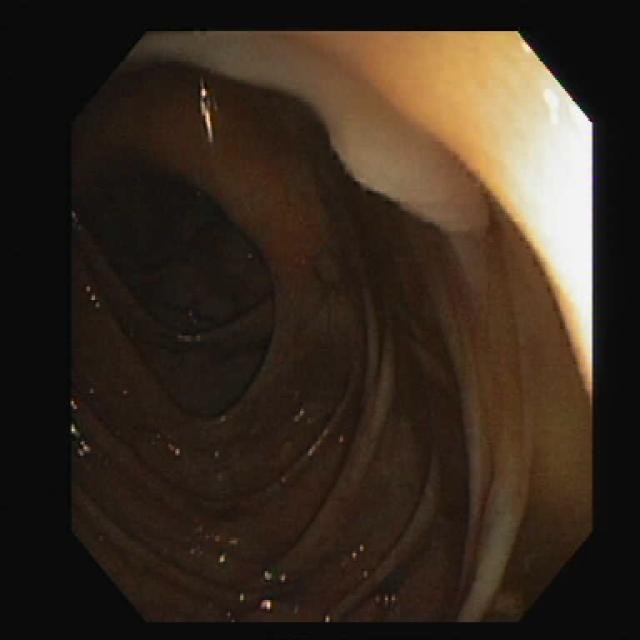tumor: (308, 71, 487, 242)
